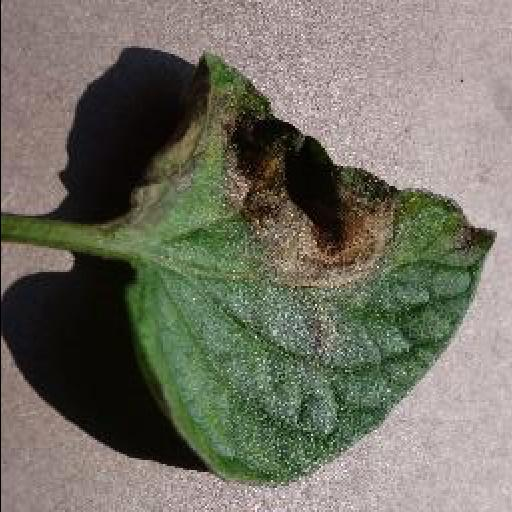disease_tomato: (122, 54, 500, 492)
